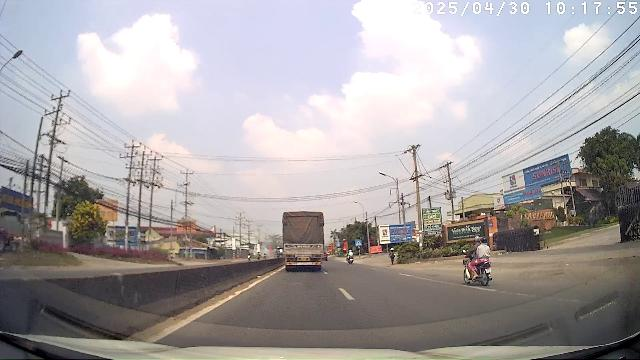423a-duong-nguoi-di-bo-sang-ngang-1: (355, 239, 362, 246)
